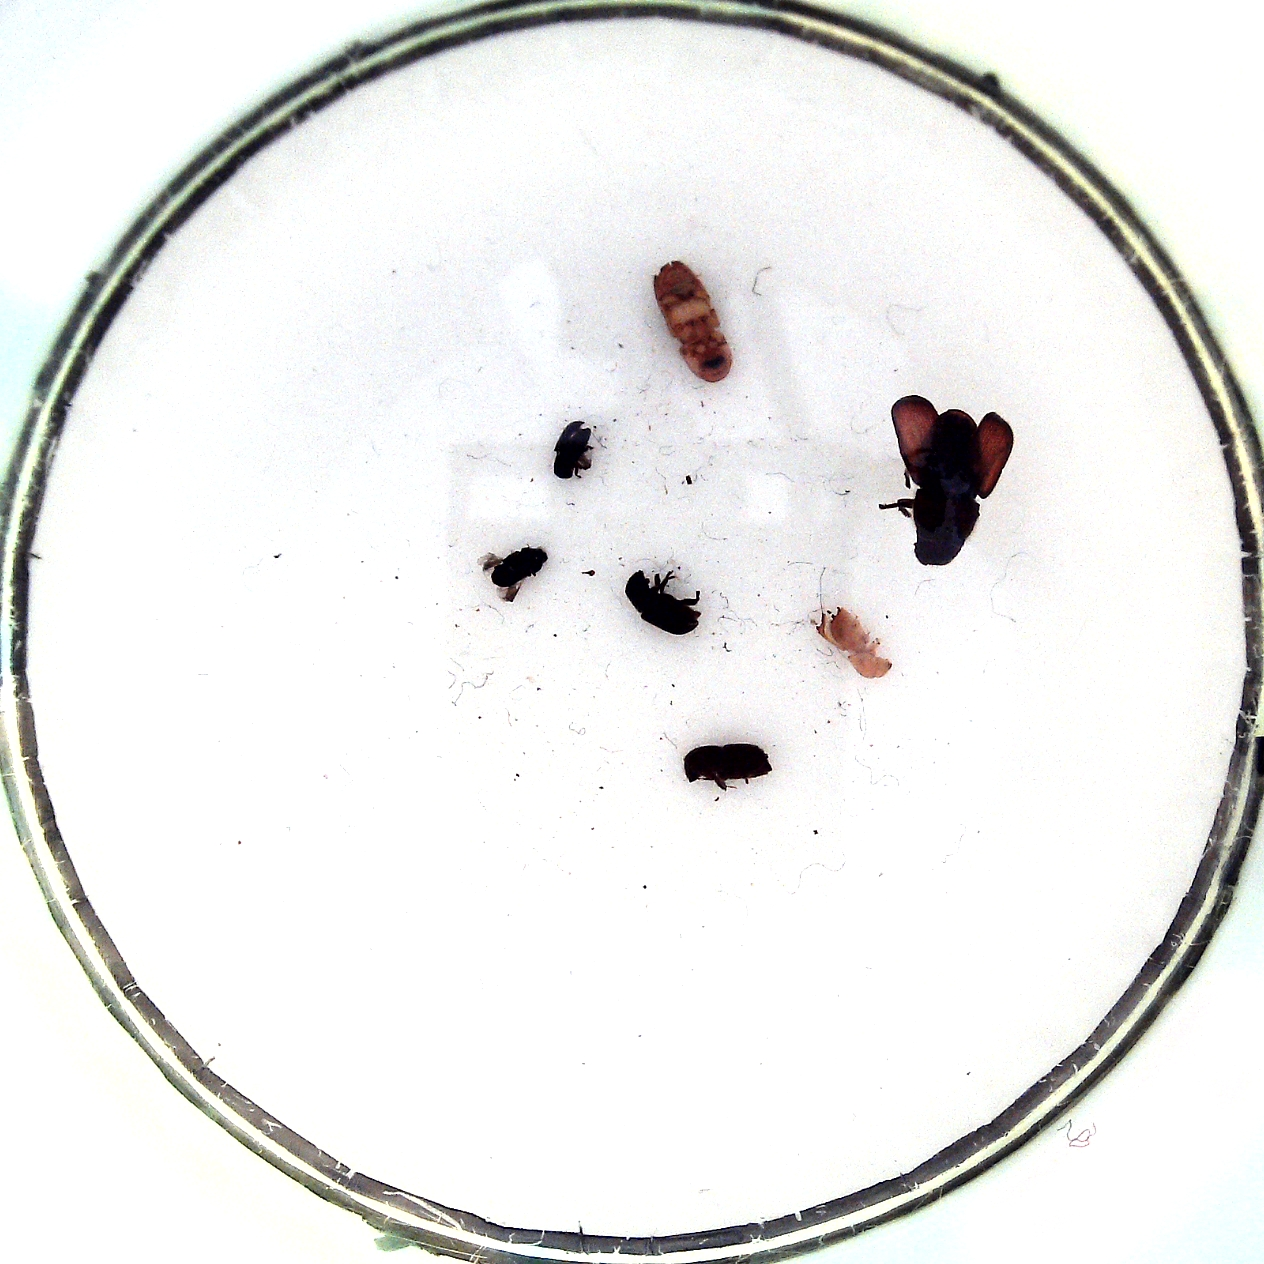Boerner: (654, 260, 732, 382)
Leconte: (910, 407, 980, 565)
acuminatus: (491, 548, 548, 588)
armandi: (626, 569, 701, 634)
coleoptera: (553, 419, 591, 479)
linnaeus: (815, 607, 891, 678), (682, 742, 773, 782)
